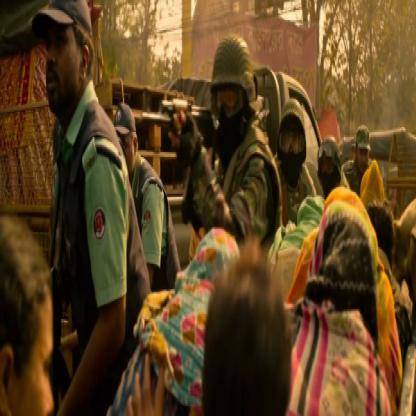Guns: (138, 85, 220, 221)
